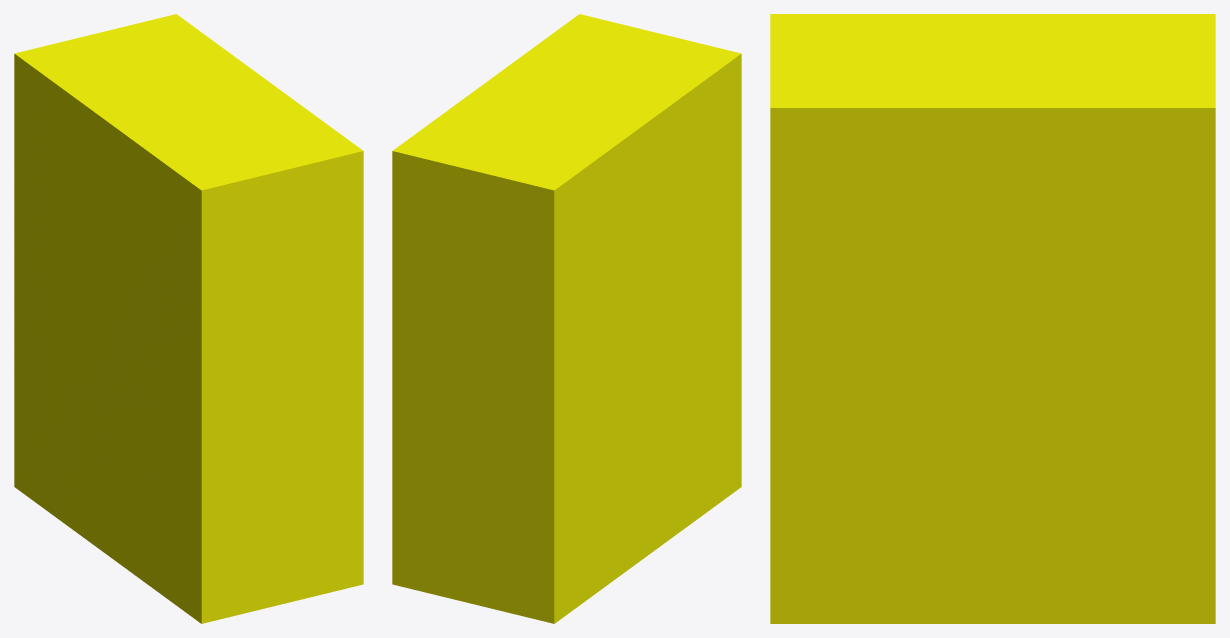
The model's file is sm_hana_swgr_d_900x1800x2300_1d.glb.
3 views of the same model, side by side, from view 1: azimuth 30°, elevation 25°; view 2: azimuth 150°, elevation 25°; view 3: azimuth 270°, elevation 25° (orthographic). The views are drawn at different scales.
Parts seen in each view (by area): view 1: sm_hana_swgr_d_900x1800x2300_1d; view 2: sm_hana_swgr_d_900x1800x2300_1d; view 3: sm_hana_swgr_d_900x1800x2300_1d.
Part boxes in pixels (x1,y1,x2,y2): sm_hana_swgr_d_900x1800x2300_1d: (14, 14, 363, 623); sm_hana_swgr_d_900x1800x2300_1d: (392, 14, 741, 623); sm_hana_swgr_d_900x1800x2300_1d: (770, 14, 1215, 623).
Size of the model in its own units: 0.9 by 2.3 by 1.8.
Materials: 1 (1 with a texture image).
